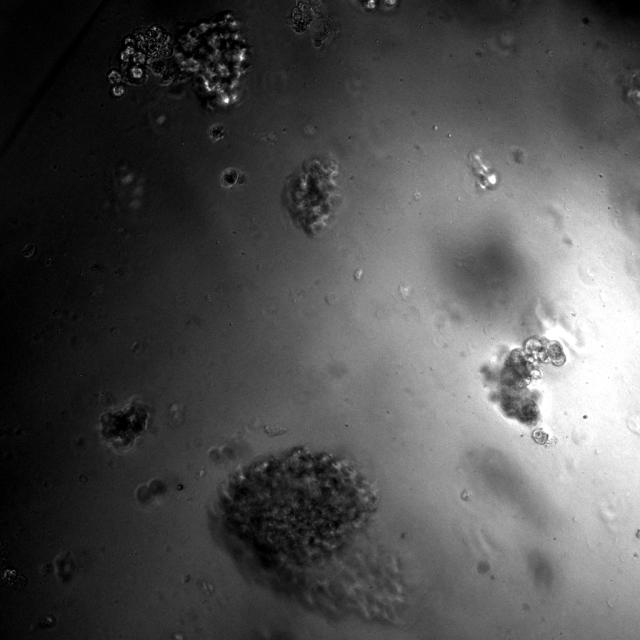organoid: (209, 446, 412, 624), (108, 12, 248, 105), (481, 336, 566, 426), (285, 156, 339, 235), (284, 0, 342, 48), (99, 398, 150, 452), (468, 151, 499, 190), (136, 478, 167, 503), (220, 167, 247, 188), (362, 0, 398, 9), (208, 123, 224, 142), (532, 427, 548, 444), (176, 483, 183, 491)
